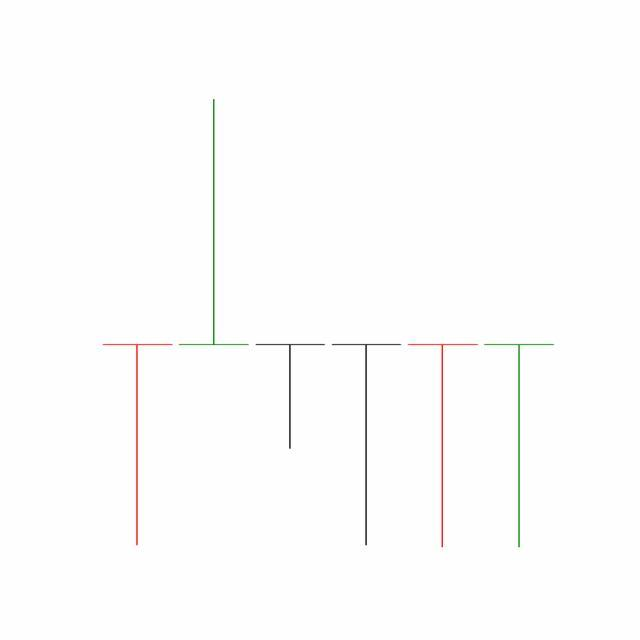Dragonfly Doji: (404, 342, 482, 551)
